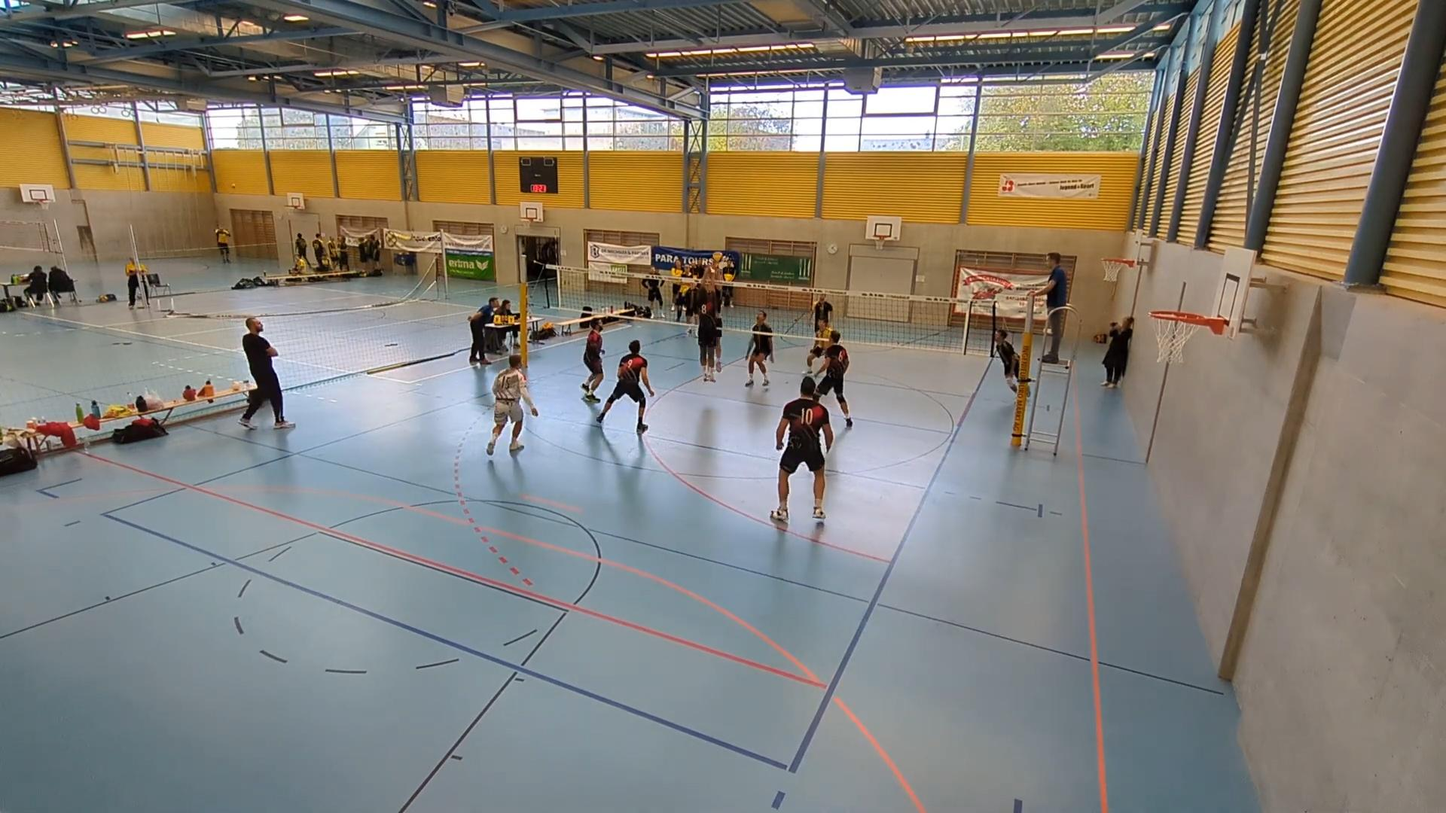Block: (691, 257, 725, 381)
Player: (770, 377, 833, 522), (595, 340, 654, 434), (487, 354, 538, 455), (817, 331, 852, 427), (746, 310, 773, 386), (581, 318, 604, 402), (995, 329, 1019, 391), (805, 323, 833, 373), (812, 294, 832, 333)
